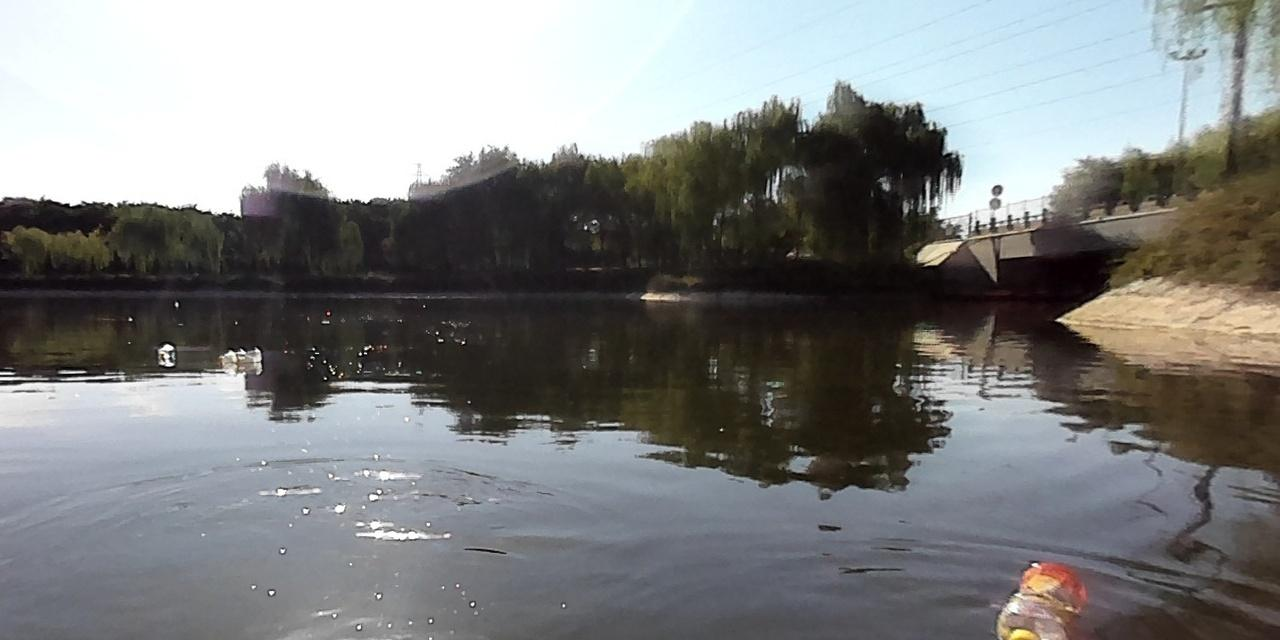bottle: (993, 561, 1086, 639), (220, 346, 261, 365), (156, 344, 173, 361)
